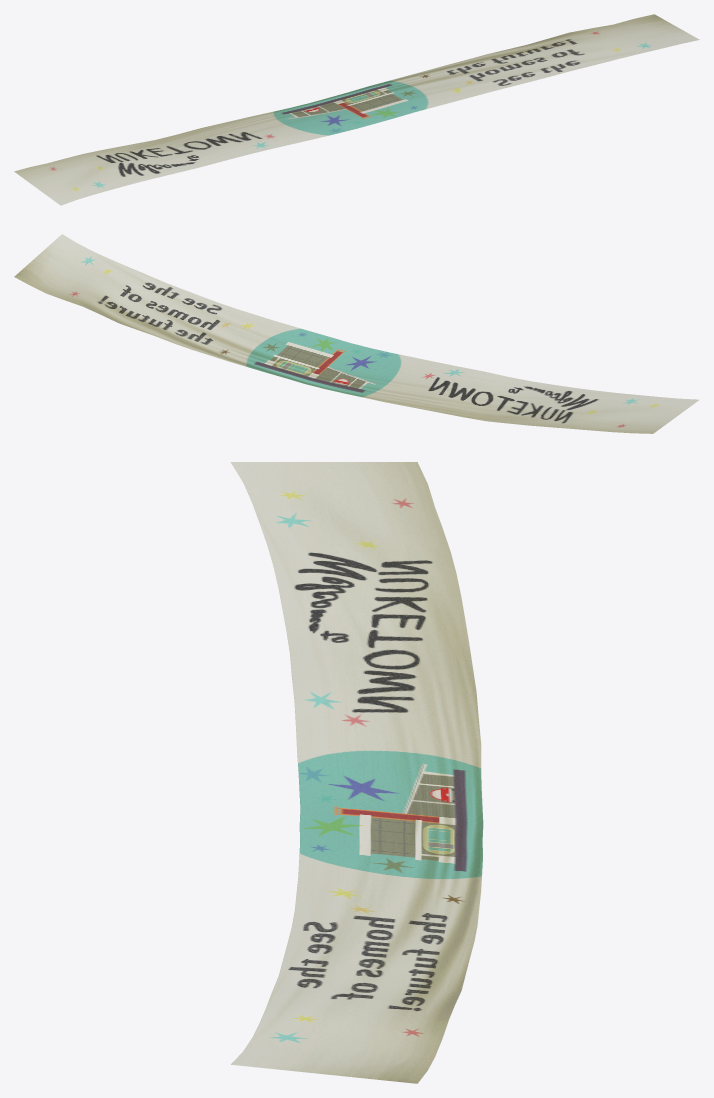
The model's file is fxanim_mp_nuked2025_banner01_mod_LOD0.obj.
3 renders of one model, top to bottom at view 1: azimuth 30°, elevation 25°; view 2: azimuth 150°, elevation 25°; view 3: azimuth 270°, elevation 25°, orthographic. The views are drawn at different scales.
Parts seen in each view (by area): view 1: mtl_fxanim_nt_2025_banner_01; view 2: mtl_fxanim_nt_2025_banner_01; view 3: mtl_fxanim_nt_2025_banner_01.
Part boxes in pixels (box(x1,y1,x2,y2)): mtl_fxanim_nt_2025_banner_01: box(14, 14, 699, 205); mtl_fxanim_nt_2025_banner_01: box(14, 234, 699, 433); mtl_fxanim_nt_2025_banner_01: box(231, 462, 483, 1083).
Bounding box in the file's own units: 822 × 36.21 × 141.
